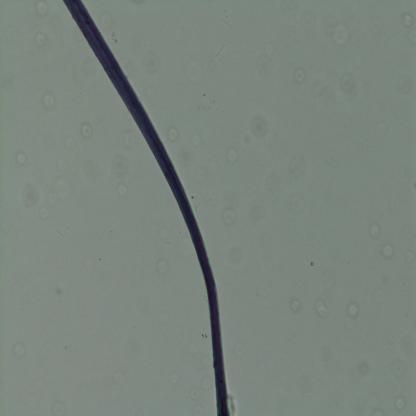Background material: (244, 110, 274, 144), (22, 184, 44, 208), (350, 361, 374, 379), (40, 89, 57, 114), (110, 153, 129, 175), (120, 126, 138, 149), (390, 392, 408, 414), (311, 300, 329, 320), (337, 72, 354, 93), (334, 21, 350, 43), (13, 149, 32, 166), (363, 221, 380, 240), (226, 144, 241, 165), (390, 364, 408, 381), (396, 12, 414, 29), (11, 344, 28, 362), (221, 208, 240, 224), (114, 181, 129, 200), (378, 242, 395, 258), (294, 66, 307, 85), (30, 30, 45, 46), (347, 300, 359, 319), (288, 296, 302, 312), (79, 122, 93, 138), (36, 0, 48, 18), (100, 14, 116, 27), (402, 247, 414, 264), (168, 127, 178, 144), (160, 258, 168, 272), (308, 260, 314, 266)
Glass filter fibre: (385, 335, 396, 347)
Microfibre: (63, 1, 233, 415)
